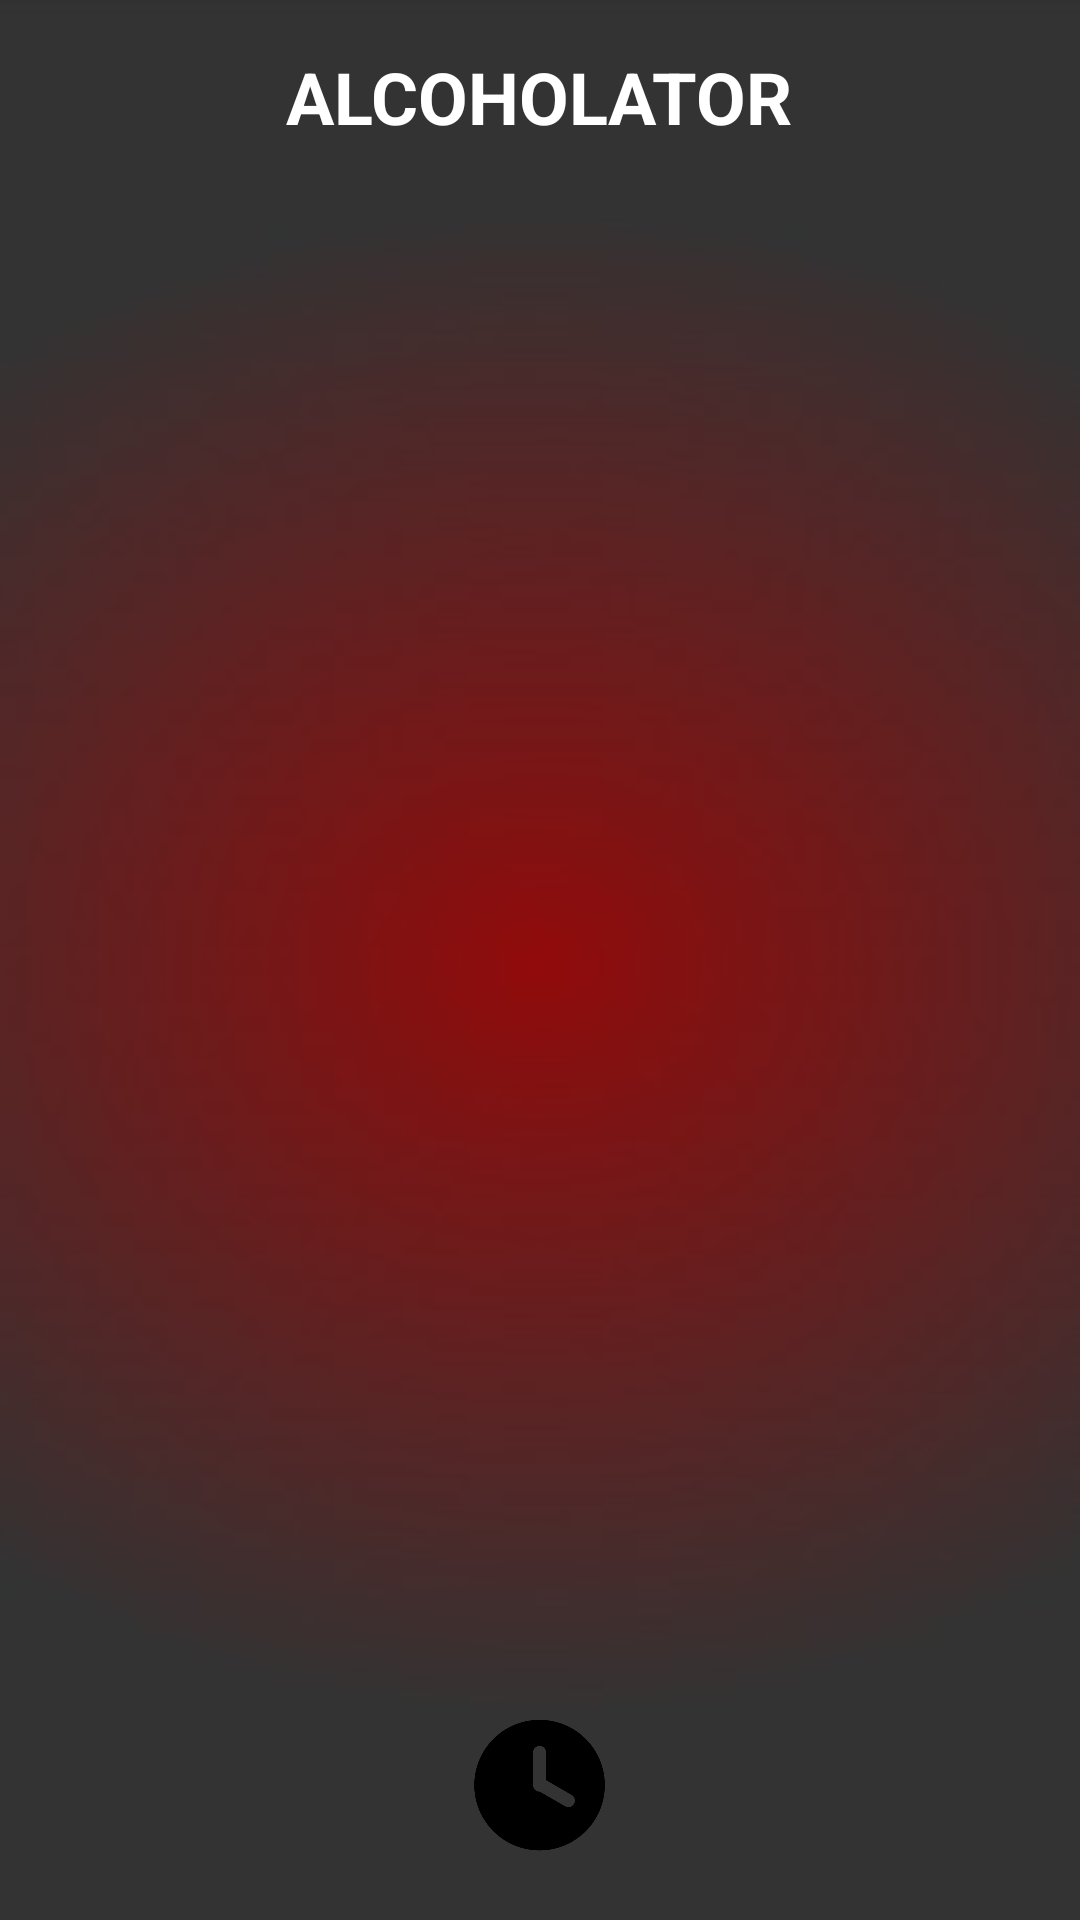

Screen size 1080w x 1920h. Icon name, then its box in pixels as [x1=x1, y1=y1, x2=x2, y2=y2]:
history: [x1=474, y1=1720, x2=605, y2=1850]
